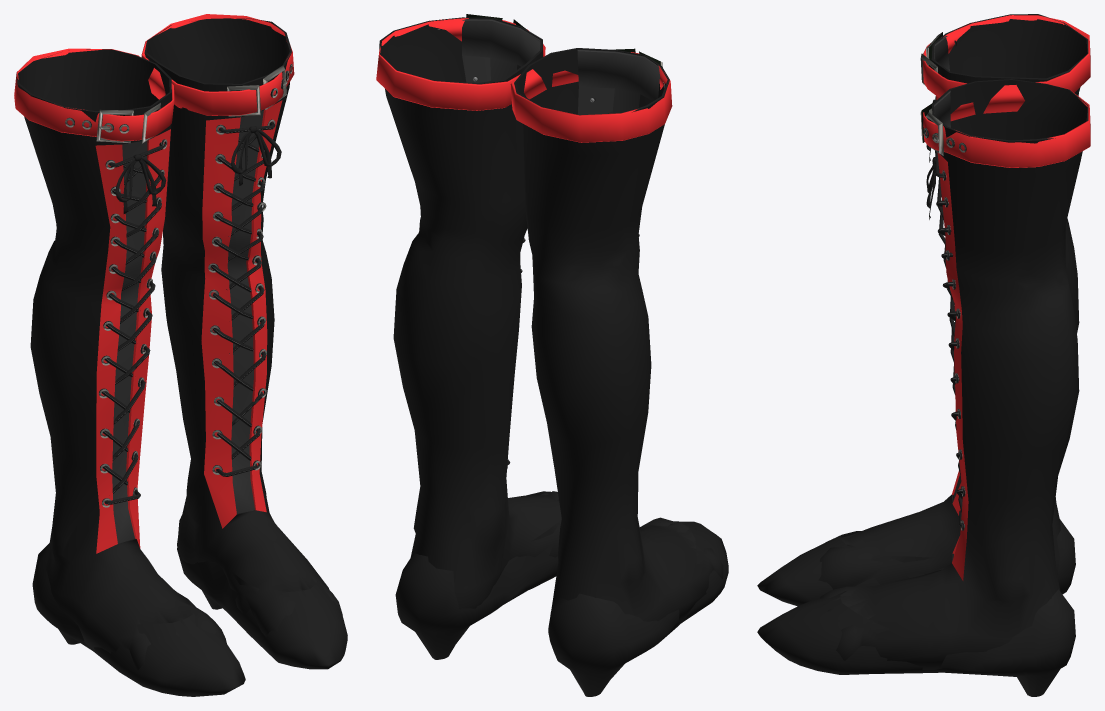
Rendered from MistressBoots.fbx.
The picture shows the model from 3 angles, left to right: view 1: azimuth 30°, elevation 25°; view 2: azimuth 150°, elevation 25°; view 3: azimuth 270°, elevation 25°; orthographic projection. The views are drawn at different scales.
Visible parts, largest first — view 1: boots_mesh; view 2: boots_mesh; view 3: boots_mesh.
Boxes of the visible parts, left/top/right/bottom form: boots_mesh: left=14, top=14, right=347, bottom=696; boots_mesh: left=376, top=14, right=728, bottom=696; boots_mesh: left=757, top=14, right=1090, bottom=696.
Bounding box in the file's own units: 29.85 × 62.58 × 32.53.
Materials: 4 (3 with a texture image).
